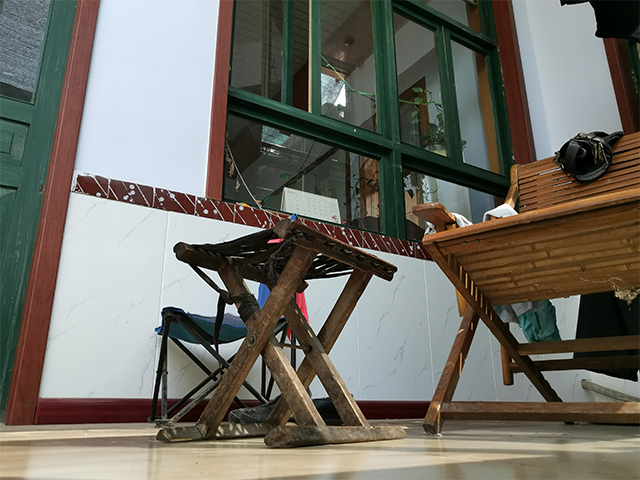stool: (413, 129, 640, 438), (153, 217, 409, 451)
